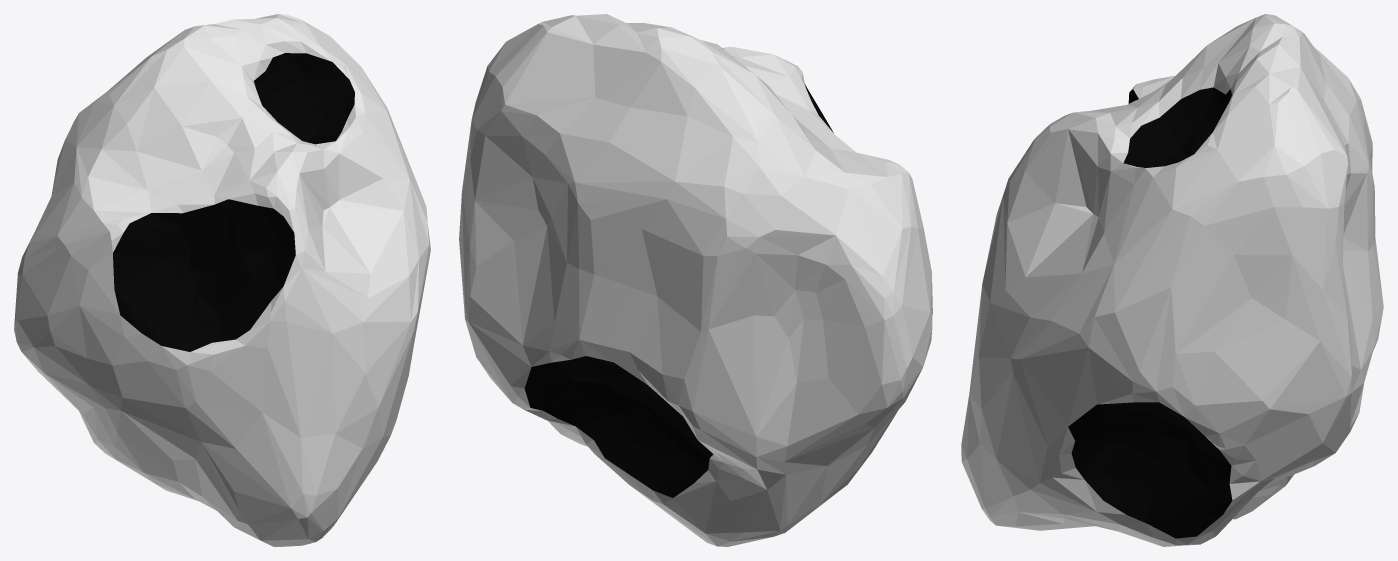
The model's file is space_SM_Env_Astroid_Holes_05.gltf.
The picture shows the model from 3 angles, left to right: view 1: azimuth 30°, elevation 25°; view 2: azimuth 150°, elevation 25°; view 3: azimuth 270°, elevation 25°; orthographic projection. The views are drawn at different scales.
Visible parts, largest first — view 1: SM_Env_Astroid_Holes_05; view 2: SM_Env_Astroid_Holes_05; view 3: SM_Env_Astroid_Holes_05.
Boxes of the visible parts, x1,y1,x2,y2 form: SM_Env_Astroid_Holes_05: (14, 14, 430, 546); SM_Env_Astroid_Holes_05: (459, 14, 932, 546); SM_Env_Astroid_Holes_05: (961, 14, 1383, 546).
Bounding box in the file's own units: 7.56 × 8.6 × 6.36.
Materials: 1 (1 with a texture image).
